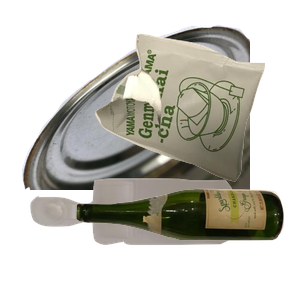glass: (74, 186, 300, 300)
metal: (19, 22, 259, 202)
plastic: (28, 176, 253, 300)
trash: (93, 31, 300, 205)
